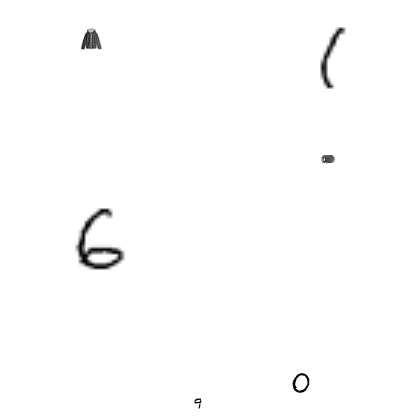0: (260, 205, 316, 261), (133, 112, 161, 140)
1: (185, 80, 227, 122)
5: (306, 262, 328, 284)
7: (248, 287, 290, 329)
Coat: (242, 177, 264, 199), (311, 197, 325, 211)
T-shirt/top: (154, 252, 196, 294), (72, 355, 114, 397)
